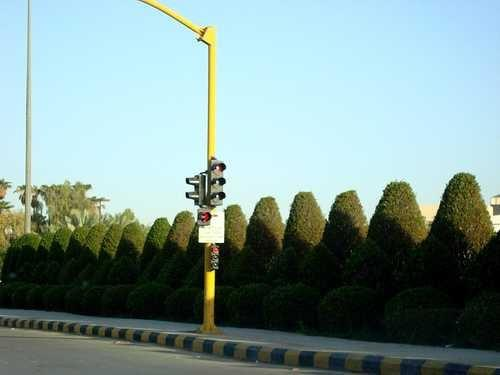red: (210, 158, 228, 207), (209, 242, 221, 272), (197, 210, 212, 226)
